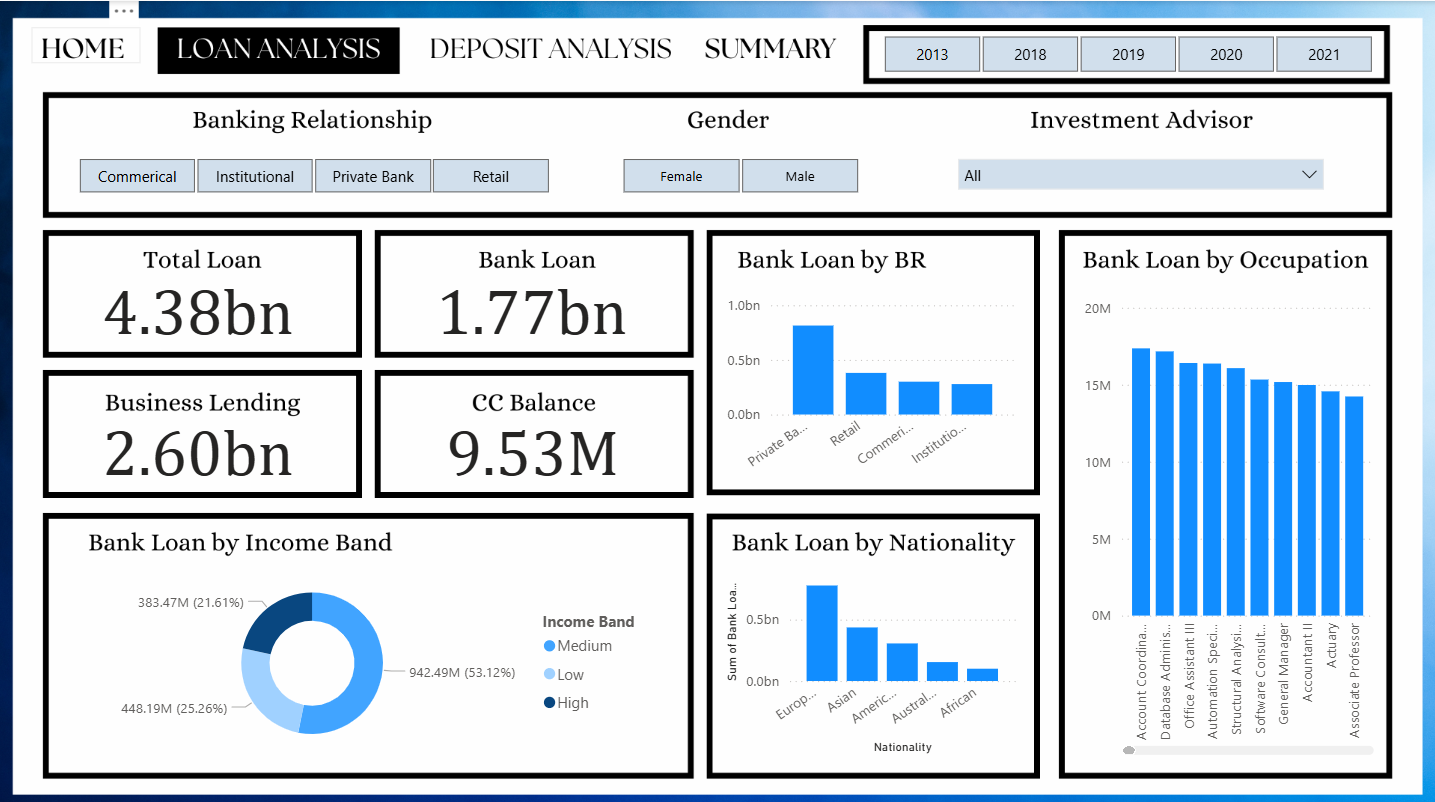

The page's visual inventory and layout, read from the dashboard file:
{"tool":"powerbi","page":{"name":"Loan Analysis","canvas":[1280,720],"ordinal":1},"visuals":[{"type":"slicer","fields":{"Values":["Banking.Year of joining"]},"box":[763,24.7,484.4,45.3],"z":0},{"type":"actionButton","box":[29,22.9,96.5,32.6],"z":1000},{"type":"actionButton","box":[374,19.3,229.2,39.8],"z":2000},{"type":"actionButton","box":[620.1,19.3,132.7,39.8],"z":3000},{"type":"card","fields":{"Values":["Banking.Total Loan"]},"box":[77.2,238.9,201.5,65.1],"z":4000},{"type":"card","fields":{"Values":["Sum(Banking.Bank Loans)"]},"box":[374,238.9,201.5,65.1],"z":5000},{"type":"card","fields":{"Values":["Sum(Banking.Business Lending)"]},"box":[77.2,365.6,201.5,65.1],"z":6000},{"type":"card","fields":{"Values":["Sum(Banking.Credit Card Balance)"]},"box":[375.2,365.6,201.5,65.1],"z":7000},{"type":"donutChart","fields":{"Category":["Banking.Income Band"],"Y":["Sum(Banking.Bank Loans)"]},"box":[68.8,504.3,520,171.3],"z":8000},{"type":"clusteredColumnChart","fields":{"Category":["Banking.BRId"],"Y":["Sum(Banking.Bank Loans)"]},"box":[641.8,257,267.8,171.3],"z":9000},{"type":"columnChart","fields":{"Category":["Banking.Nationality"],"Y":["Sum(Banking.Bank Loans)"]},"box":[641.8,504.3,267.8,171.3],"z":10000},{"type":"clusteredColumnChart","fields":{"Y":["Sum(Banking.Bank Loans)"],"Category":["Banking.Occupation"]},"box":[961.9,259.3,267.6,417.2],"z":11000},{"type":"slicer","fields":{"Values":["Banking.IAId"]},"box":[843.9,130.4,345.8,43.9],"z":12000},{"type":"slicer","fields":{"Values":["Banking.GenderId"]},"box":[529.7,133.1,259.3,43.9],"z":13000},{"type":"slicer","fields":{"Values":["Banking.BRId"]},"box":[45.3,133.1,467.9,43.9],"z":14000}]}

Visuals, with their boxes in screenshot pixels (x1, y1, x2, y2), scaled from the page's 1280x720 canvas onto the 1435x802 screenshot:
slicer - Banking.Year of joining: box(855, 28, 1398, 78)
actionButton: box(33, 26, 141, 62)
actionButton: box(419, 21, 676, 66)
actionButton: box(695, 21, 844, 66)
card - Banking.Total Loan: box(87, 266, 312, 339)
card - Sum(Banking.Bank Loans): box(419, 266, 645, 339)
card - Sum(Banking.Business Lending): box(87, 407, 312, 480)
card - Sum(Banking.Credit Card Balance): box(421, 407, 647, 480)
donutChart - Banking.Income Band x Sum(Banking.Bank Loans): box(77, 562, 660, 753)
clusteredColumnChart - Banking.BRId x Sum(Banking.Bank Loans): box(720, 286, 1020, 477)
columnChart - Banking.Nationality x Sum(Banking.Bank Loans): box(720, 562, 1020, 753)
clusteredColumnChart - Sum(Banking.Bank Loans) x Banking.Occupation: box(1078, 289, 1378, 754)
slicer - Banking.IAId: box(946, 145, 1334, 194)
slicer - Banking.GenderId: box(594, 148, 885, 197)
slicer - Banking.BRId: box(51, 148, 575, 197)
